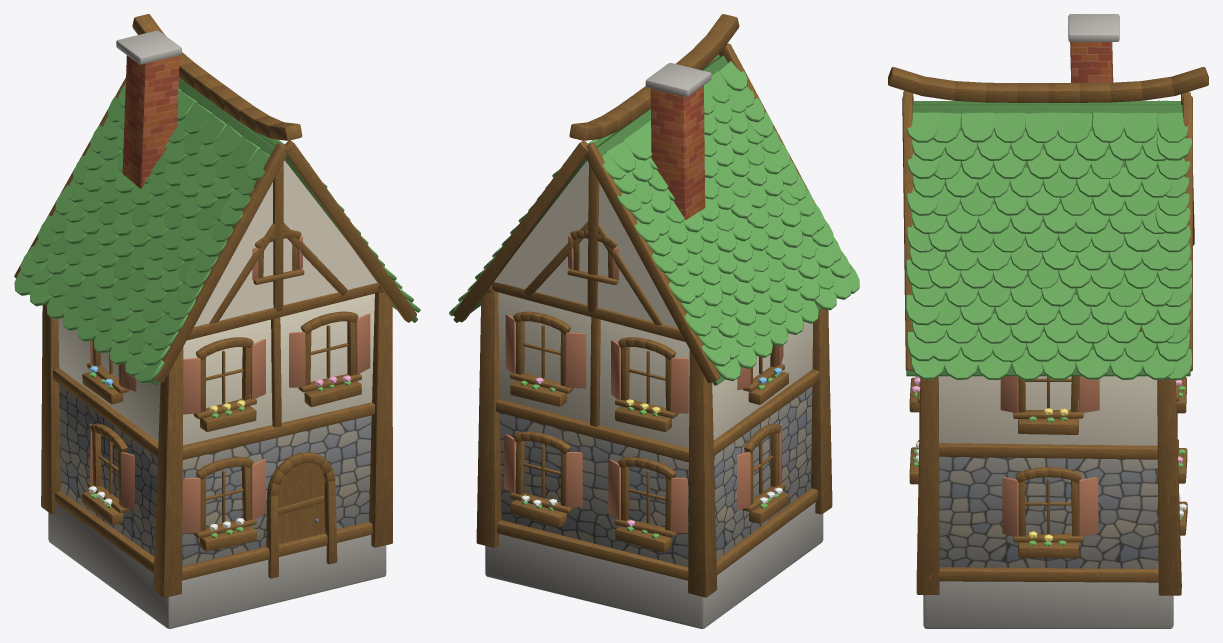
File: townhouse_green.gltf
3 views of the same model, side by side, from view 1: azimuth 30°, elevation 25°; view 2: azimuth 150°, elevation 25°; view 3: azimuth 270°, elevation 25° (orthographic). The views are drawn at different scales.
Parts seen in each view (by area): view 1: townhouse_green; view 2: townhouse_green; view 3: townhouse_green.
Boxes of the visible parts, left/top/right/bottom form: townhouse_green: left=14, top=14, right=420, bottom=628; townhouse_green: left=449, top=14, right=859, bottom=628; townhouse_green: left=888, top=14, right=1208, bottom=628.
Size of the model in its own units: 5.96 by 10.24 by 5.64.
Materials: 16 (3 with a texture image).
